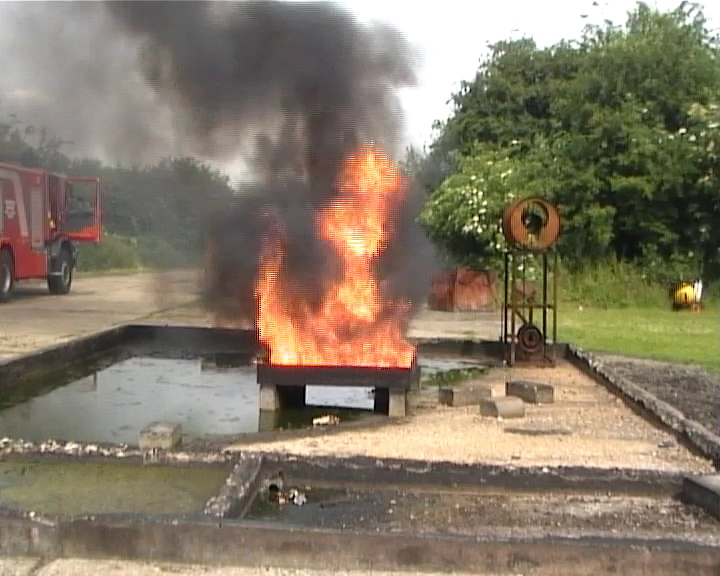fire: (257, 146, 412, 370)
